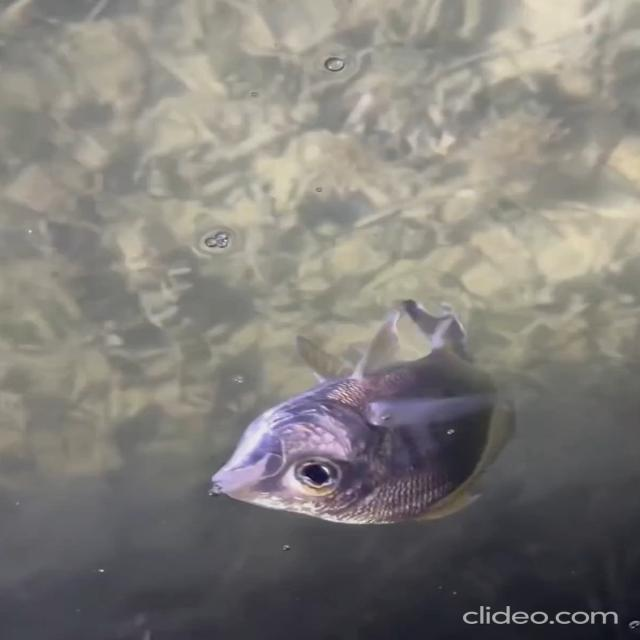fish: (196, 304, 548, 538)
